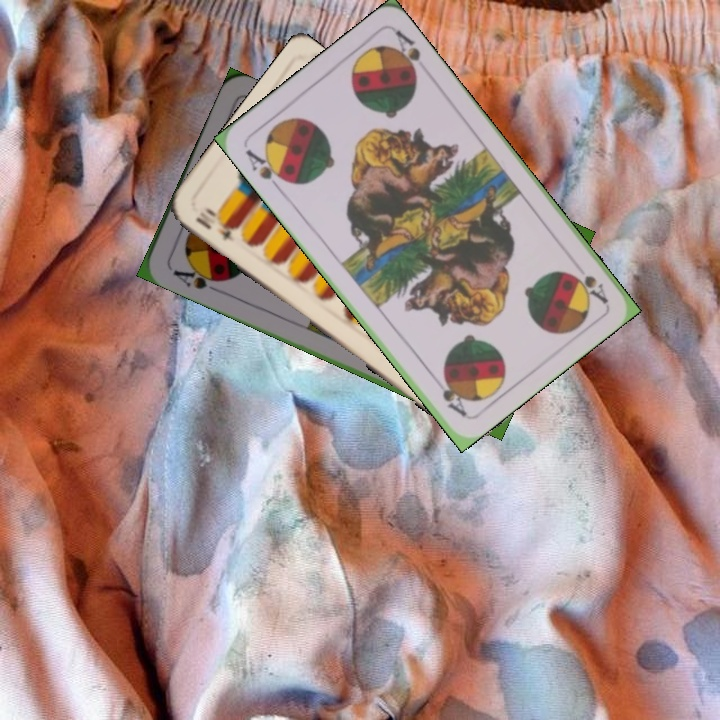E10: (191, 203, 240, 244)
SA: (241, 145, 291, 193), (169, 260, 226, 295), (566, 267, 611, 306)
